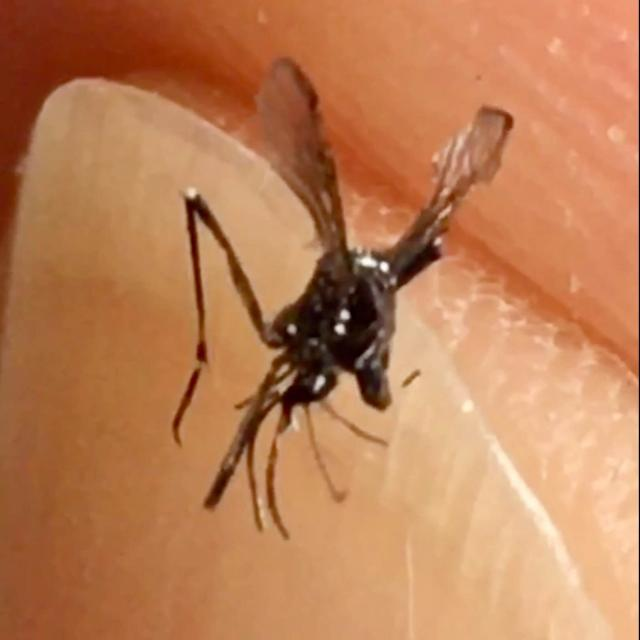albopictus: (121, 88, 544, 542)
